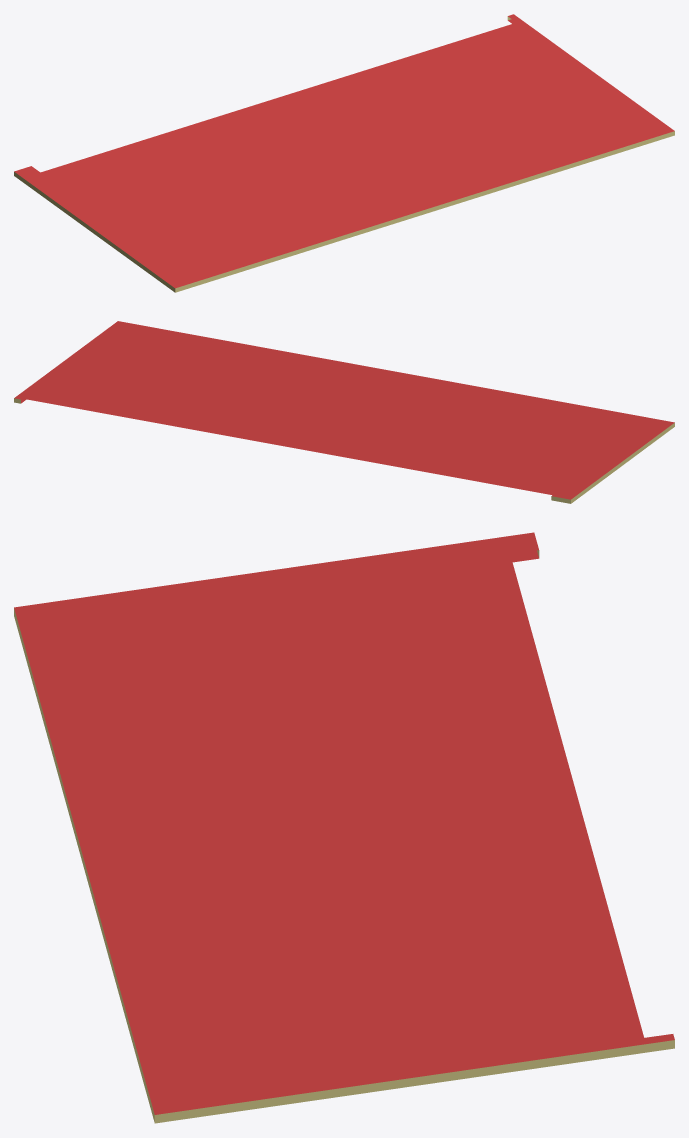
3 views of the same model, one above another, from view 1: azimuth 30°, elevation 25°; view 2: azimuth 150°, elevation 25°; view 3: azimuth 270°, elevation 25° (orthographic). The views are drawn at different scales.
Size of the model in its own units: 13.48 by 7.06 by 0.681.
